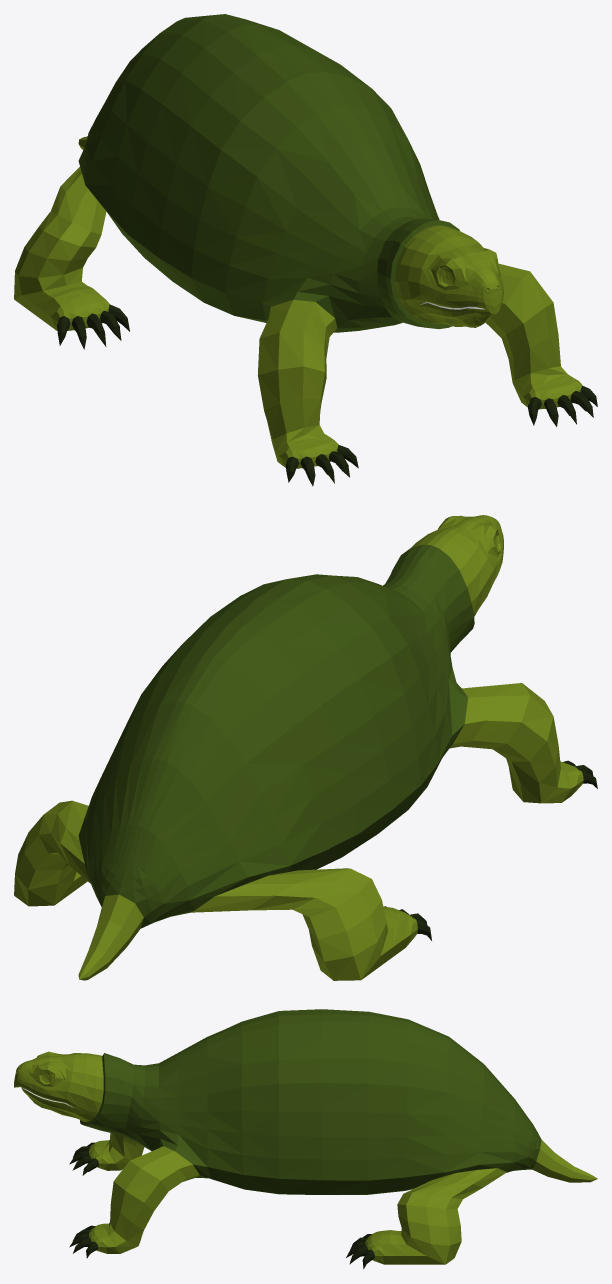
The model's file is tortoise_tortoise.obj.
3 renders of one model, top to bottom at view 1: azimuth 30°, elevation 25°; view 2: azimuth 150°, elevation 25°; view 3: azimuth 270°, elevation 25°, orthographic. The views are drawn at different scales.
Size of the model in its own units: 0.1877 by 0.1319 by 0.3636.
